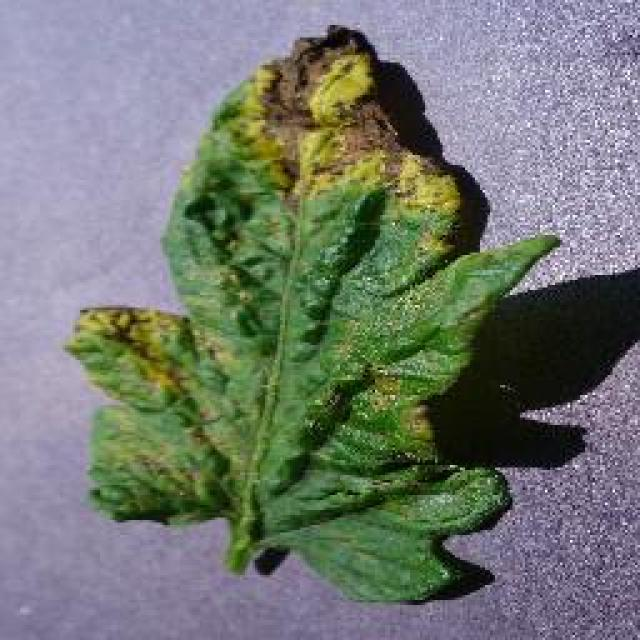Tomato___Septoria_leaf_spot: (68, 28, 558, 600)
